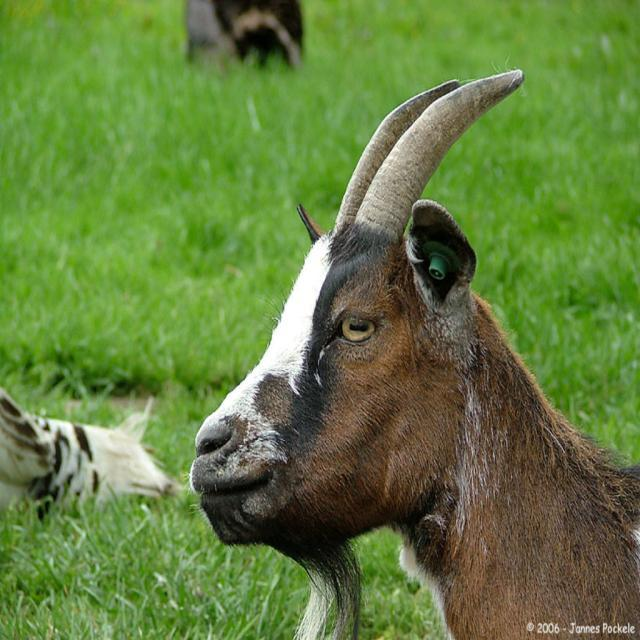Goat: (188, 64, 639, 638), (0, 385, 181, 523), (184, 0, 305, 71)
